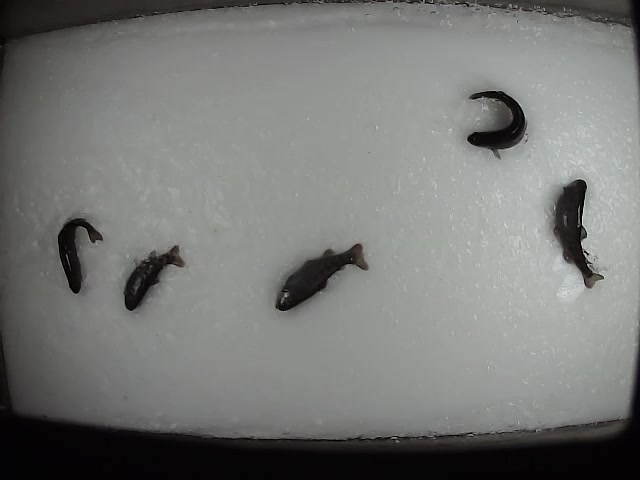fish: (271, 239, 371, 313), (549, 174, 605, 291), (466, 83, 528, 161), (122, 243, 187, 312), (55, 216, 106, 294)
